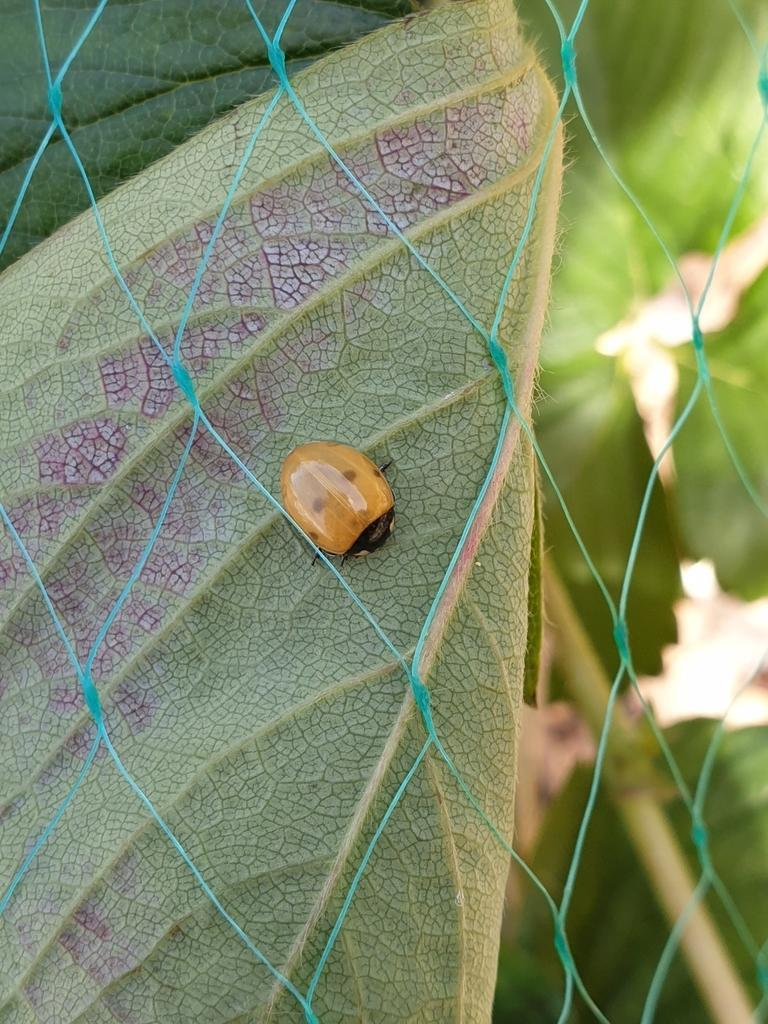ladybug: (279, 439, 404, 571)
